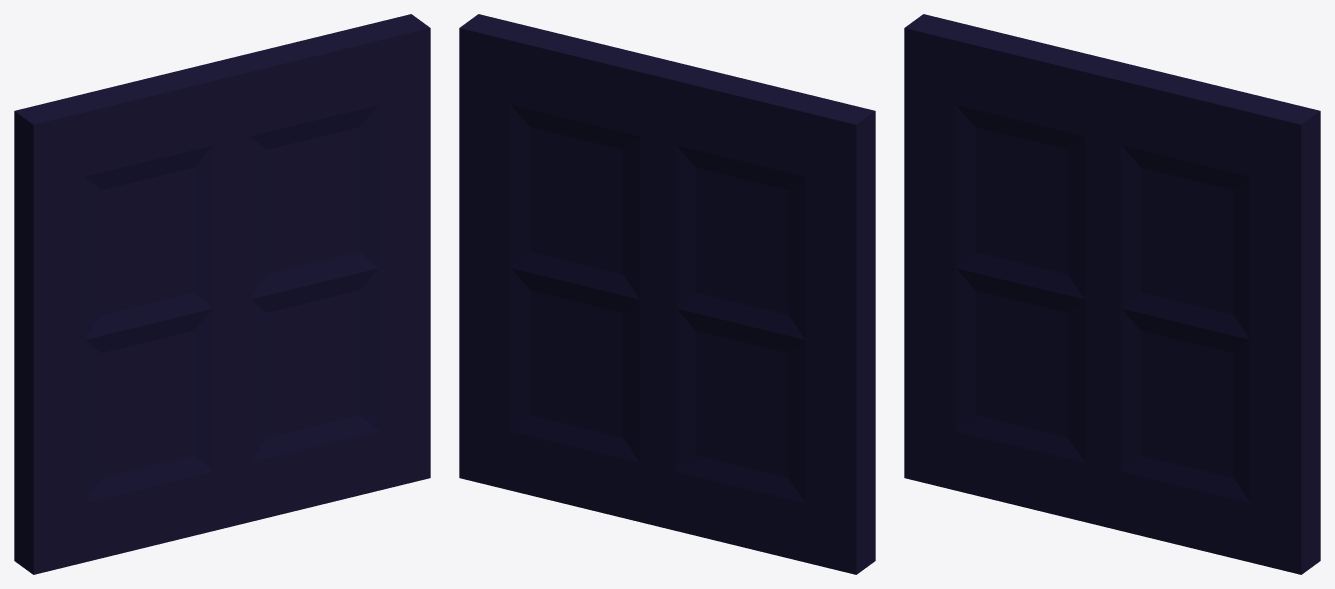
Rendered from SM_Door-Basic_E.fbx.
3 views of the same model, side by side, from view 1: azimuth 30°, elevation 25°; view 2: azimuth 150°, elevation 25°; view 3: azimuth 330°, elevation 25° (orthographic).
Visible parts, largest first — view 1: SM_Door-Basic_E; view 2: SM_Door-Basic_E; view 3: SM_Door-Basic_E.
Boxes of the visible parts, x1,y1,x2,y2 form: SM_Door-Basic_E: (14,14,430,574); SM_Door-Basic_E: (459,14,875,574); SM_Door-Basic_E: (904,14,1320,574).
Size of the model in its own units: 240 by 20 by 260.
